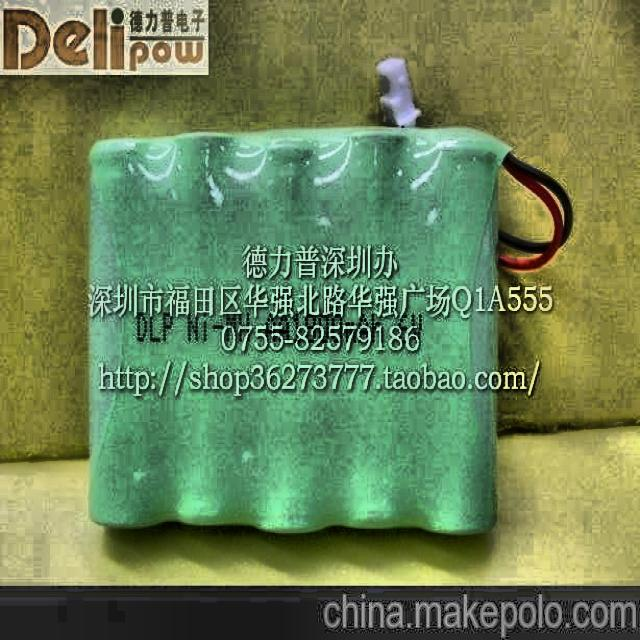Non-Valuable Waste - Batteries: (89, 128, 509, 534)
